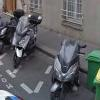Motorcycle: (11, 9, 84, 96)
